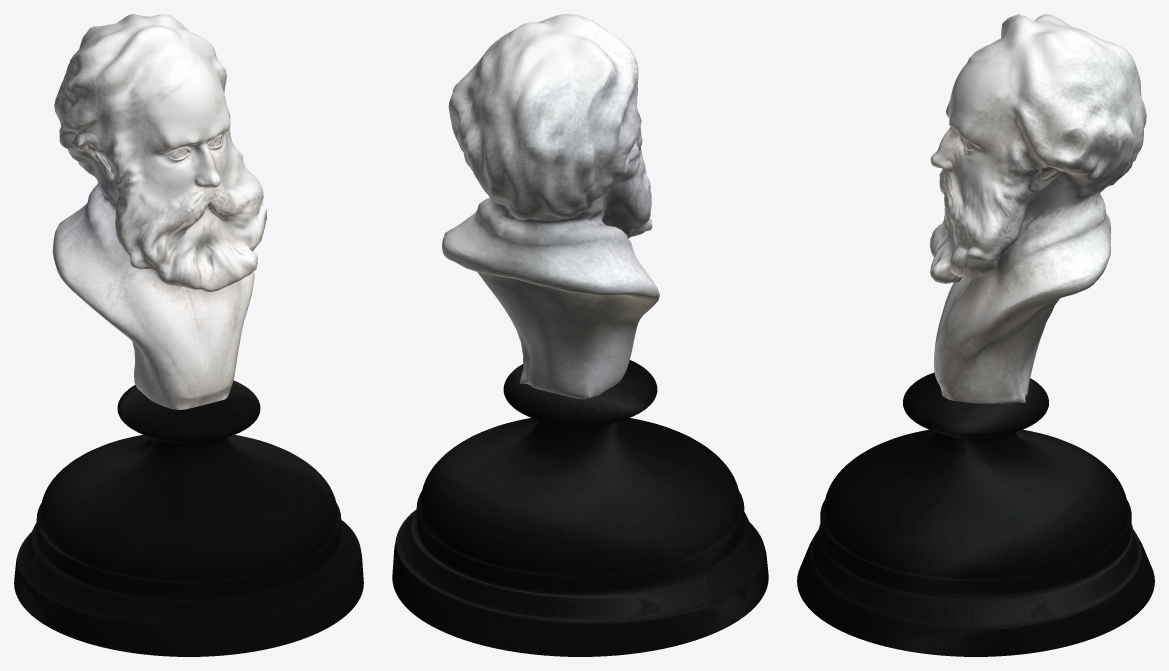
Rendered from kreideberg.glb.
3 views of the same model, side by side, from view 1: azimuth 30°, elevation 25°; view 2: azimuth 150°, elevation 25°; view 3: azimuth 270°, elevation 25° (orthographic). The views are drawn at different scales.
Visible parts, largest first — view 1: Mesh; view 2: Mesh; view 3: Mesh.
Boxes of the visible parts, x1=… form: Mesh: x1=14, y1=14, x2=363, y2=656; Mesh: x1=392, y1=14, x2=768, y2=656; Mesh: x1=797, y1=14, x2=1154, y2=656.
Bounding box in the file's own units: 0.161 × 0.2744 × 0.1604.
Materials: 2 (2 with a texture image).
